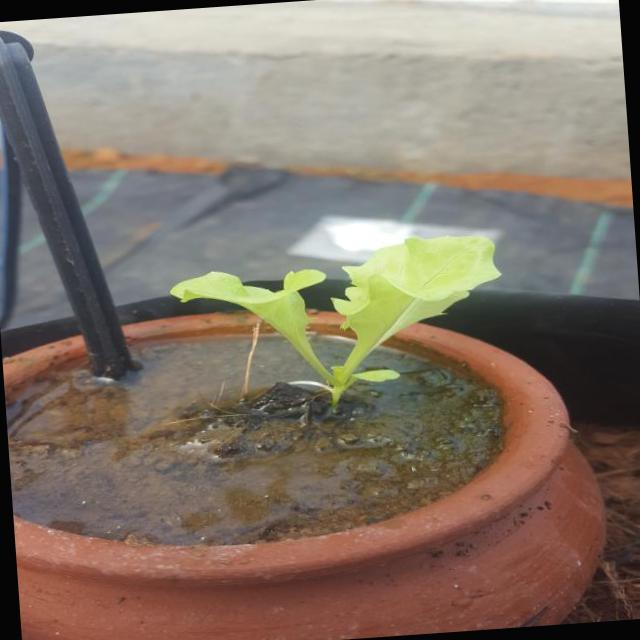Lettuce-Not-Ready-to-Harvest: (169, 235, 500, 402)
